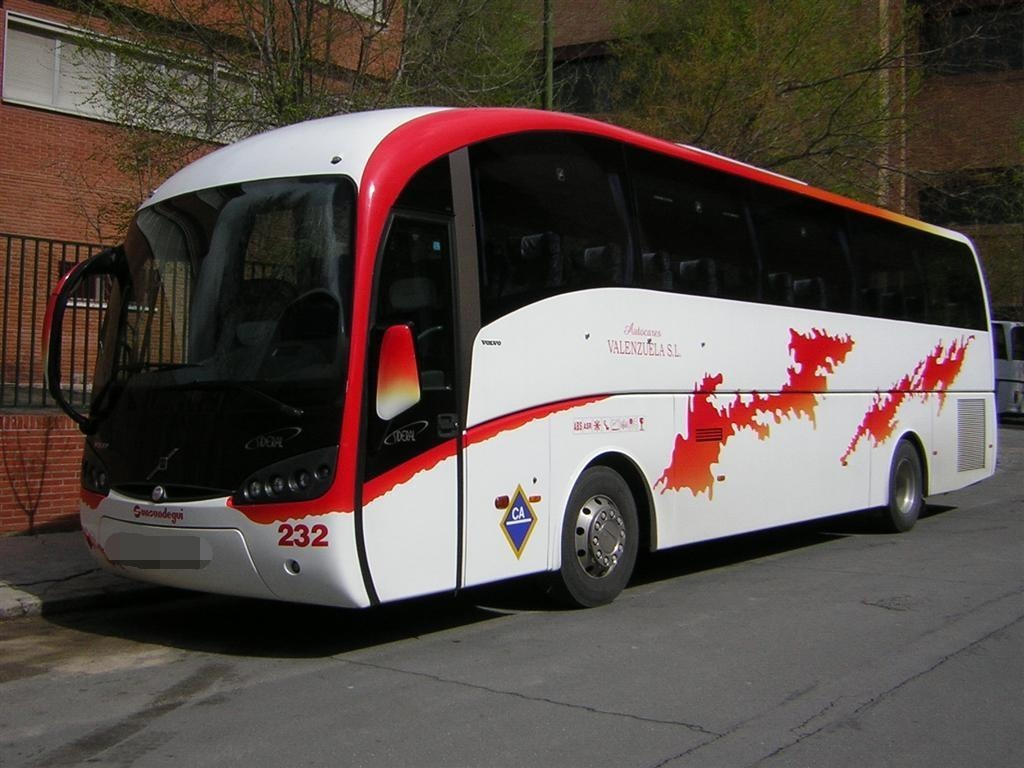bus: (76, 84, 1002, 622)
